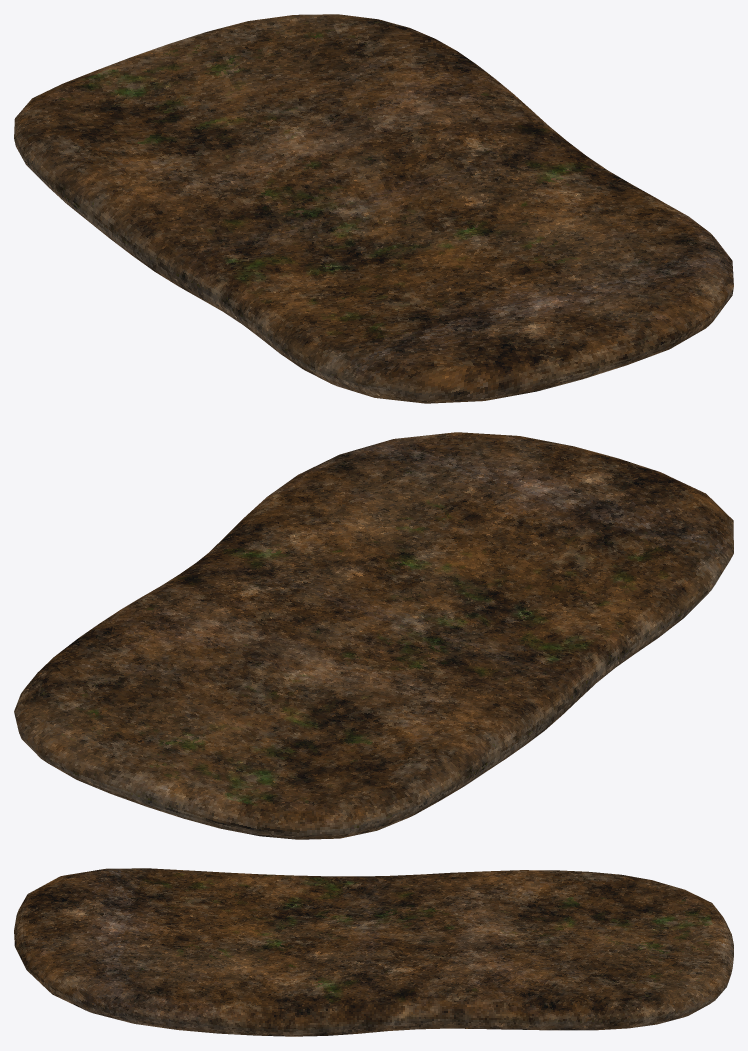
The model's file is SM_TI_Ground_3.gltf.
3 renders of one model, top to bottom at view 1: azimuth 30°, elevation 25°; view 2: azimuth 150°, elevation 25°; view 3: azimuth 270°, elevation 25°, orthographic. The views are drawn at different scales.
Visible parts, largest first — view 1: SM_TI_Ground_3; view 2: SM_TI_Ground_3; view 3: SM_TI_Ground_3.
Boxes of the visible parts, x1,y1,x2,y2 form: SM_TI_Ground_3: (14,14,733,403); SM_TI_Ground_3: (14,432,733,839); SM_TI_Ground_3: (14,868,733,1036).
Bounding box in the file's own units: 9.83 × 1.59 × 18.29.
1 material, 1 textured.
